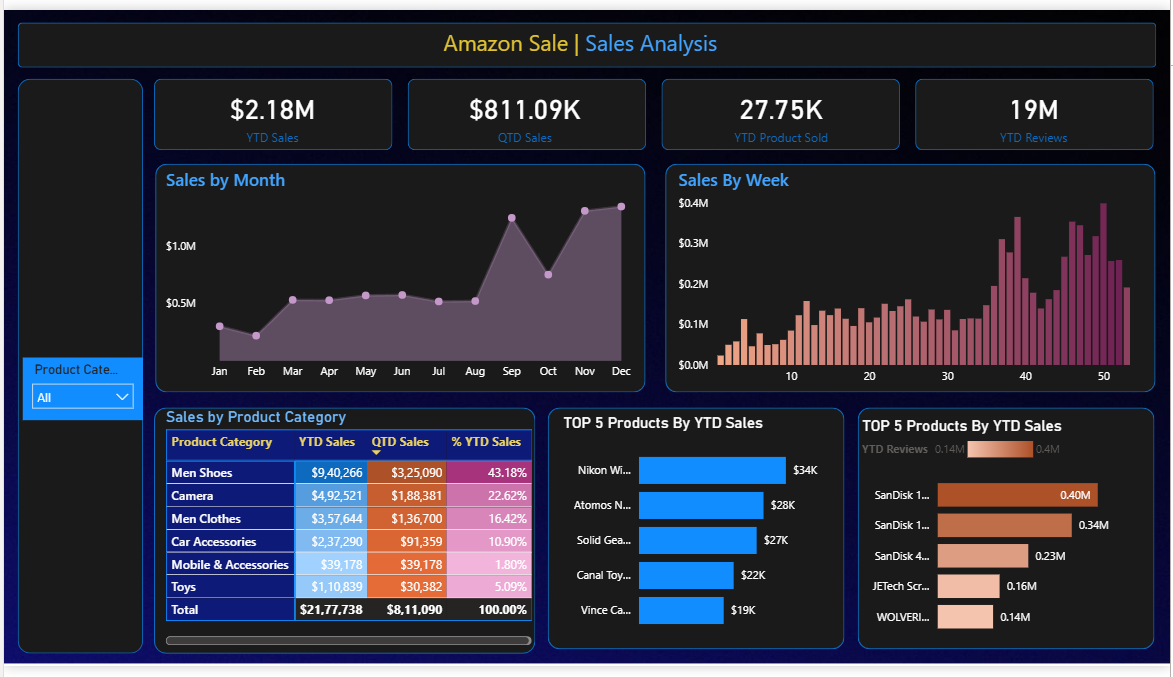

What the dashboard file says about the page in this screenshot:
{"tool":"powerbi","page":{"name":"Page 1","canvas":[1280,720],"ordinal":0},"visuals":[{"type":"shape","box":[14.5,13.3,1249.9,49.5],"z":0},{"type":"shape","box":[165.3,76.2,261.8,78.4],"z":0,"group":"g1"},{"type":"textbox","box":[477.8,14.5,323.3,50.7],"z":1000},{"type":"card","fields":{"Values":["Amazon_Data.YTD Sales"]},"box":[165.3,77.4,260.6,77.2],"z":1000,"group":"g1"},{"type":"shape","box":[14.5,76,137.5,631],"z":2000},{"type":"shape","box":[1001.4,76,261.8,78.4],"z":2000,"group":"g1"},{"type":"group","id":"g1","title":"Group 1","box":[165.3,76,1097.9,78.4],"z":3000},{"type":"shape","box":[722.3,76,261.8,78.4],"z":3000,"group":"g1"},{"type":"shape","box":[443.2,76,261.8,78.4],"z":4000,"group":"g1"},{"type":"shape","box":[166.5,168.9,538.1,250.9],"z":4000},{"type":"card","fields":{"Values":["Amazon_Data.QTD Sales"]},"box":[442.8,77.4,260.6,77.2],"z":5000,"group":"g1"},{"type":"areaChart","title":"Sales by Month","fields":{"Category":["Date Table.Month Name"],"Y":["Sum(Amazon_Data.Price(Dollar))"]},"box":[172.5,172.5,526,242.5],"z":5000},{"type":"card","fields":{"Values":["Amazon_Data.YTD Product Sold"]},"box":[723.9,77.4,260.6,77.2],"z":6000,"group":"g1"},{"type":"shape","box":[726.3,168.9,538.1,250.9],"z":6000},{"type":"card","fields":{"Values":["Amazon_Data.YTD Reviews"]},"box":[1001.4,77.4,260.6,77.2],"z":7000,"group":"g1"},{"type":"columnChart","title":"Sales By Week","fields":{"Category":["Date Table.Week"],"Y":["Sum(Amazon_Data.Price(Dollar))"]},"box":[735.5,172.9,526.9,247],"z":7000},{"type":"shape","box":[165.3,436.7,418.6,270.2],"z":8000},{"type":"pivotTable","title":"Sales by Product Category","fields":{"Rows":["Amazon_Data.Product Category"],"Values":["Amazon_Data.YTD Sales1","Amazon_Data.QTD Sales","Amazon_Data.YTD Sales"]},"box":[172.5,436.7,411.4,265.4],"z":9000},{"type":"shape","box":[597.2,436.7,325.7,265.4],"z":9002},{"type":"shape","box":[937.4,436.7,325.7,265.4],"z":9003},{"type":"clusteredBarChart","title":"TOP 5 Products By YTD Sales","fields":{"Y":["Amazon_Data.YTD Sales"],"Category":["Amazon_Data.Product Description"]},"box":[609.3,443.2,300.5,252.5],"z":9004},{"type":"clusteredBarChart","title":"TOP 5 Products By YTD Sales","fields":{"Category":["Amazon_Data.Product Description"],"Y":["Amazon_Data.YTD Reviews"]},"box":[937.2,446,300.5,252.5],"z":9005},{"type":"slicer","fields":{"Values":["Amazon_Data.Product Category"]},"box":[20.6,381.5,131.7,68.6],"z":9006}]}

Visuals, with their boxes in screenshot pixels (x1, y1, x2, y2), scaled from the page's 1280x720 canvas onto the 1173x677 screenshot:
shape: box(13, 13, 1159, 59)
shape: box(151, 72, 391, 145)
textbox: box(438, 14, 734, 61)
card - Amazon_Data.YTD Sales: box(151, 73, 390, 145)
shape: box(13, 71, 139, 665)
shape: box(918, 71, 1158, 145)
"Group 1" group: box(151, 71, 1158, 145)
shape: box(662, 71, 902, 145)
shape: box(406, 71, 646, 145)
shape: box(153, 159, 646, 395)
card - Amazon_Data.QTD Sales: box(406, 73, 645, 145)
"Sales by Month" areaChart: box(158, 162, 640, 390)
card - Amazon_Data.YTD Product Sold: box(663, 73, 902, 145)
shape: box(666, 159, 1159, 395)
card - Amazon_Data.YTD Reviews: box(918, 73, 1157, 145)
"Sales By Week" columnChart: box(674, 163, 1157, 395)
shape: box(151, 411, 535, 665)
"Sales by Product Category" pivotTable: box(158, 411, 535, 660)
shape: box(547, 411, 846, 660)
shape: box(859, 411, 1158, 660)
"TOP 5 Products By YTD Sales" clusteredBarChart: box(558, 417, 834, 654)
"TOP 5 Products By YTD Sales" clusteredBarChart: box(859, 419, 1134, 657)
slicer - Amazon_Data.Product Category: box(19, 359, 140, 423)
